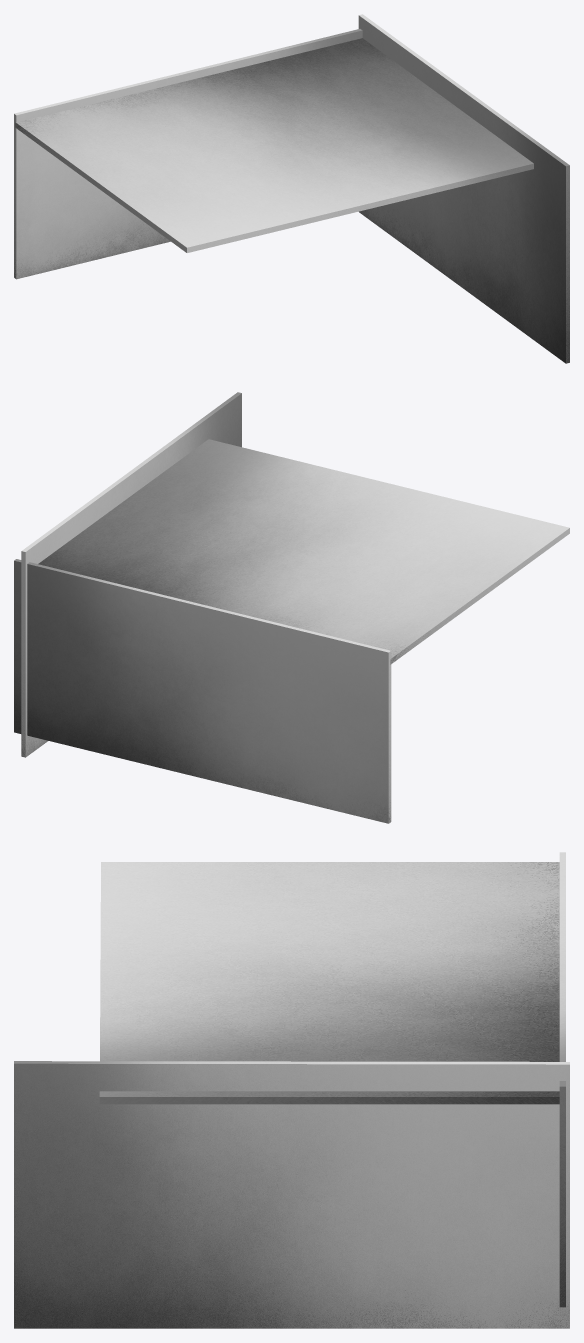
The model's file is Wall.fbx.
The picture shows the model from 3 angles, top to bottom: view 1: azimuth 30°, elevation 25°; view 2: azimuth 150°, elevation 25°; view 3: azimuth 270°, elevation 25°; orthographic projection. The views are drawn at different scales.
Visible parts, largest first — view 1: Wall; view 2: Wall; view 3: Wall.
Boxes of the visible parts, bbox=[...] form: Wall: bbox=[14, 14, 569, 363]; Wall: bbox=[14, 392, 569, 823]; Wall: bbox=[14, 852, 569, 1328].
Size of the model in its own units: 2134 by 1121 by 2133.
